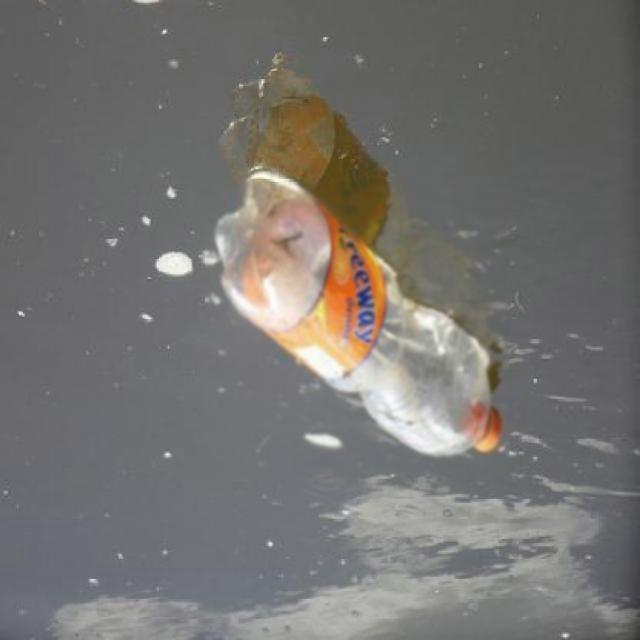Plastic: (210, 163, 512, 461)
